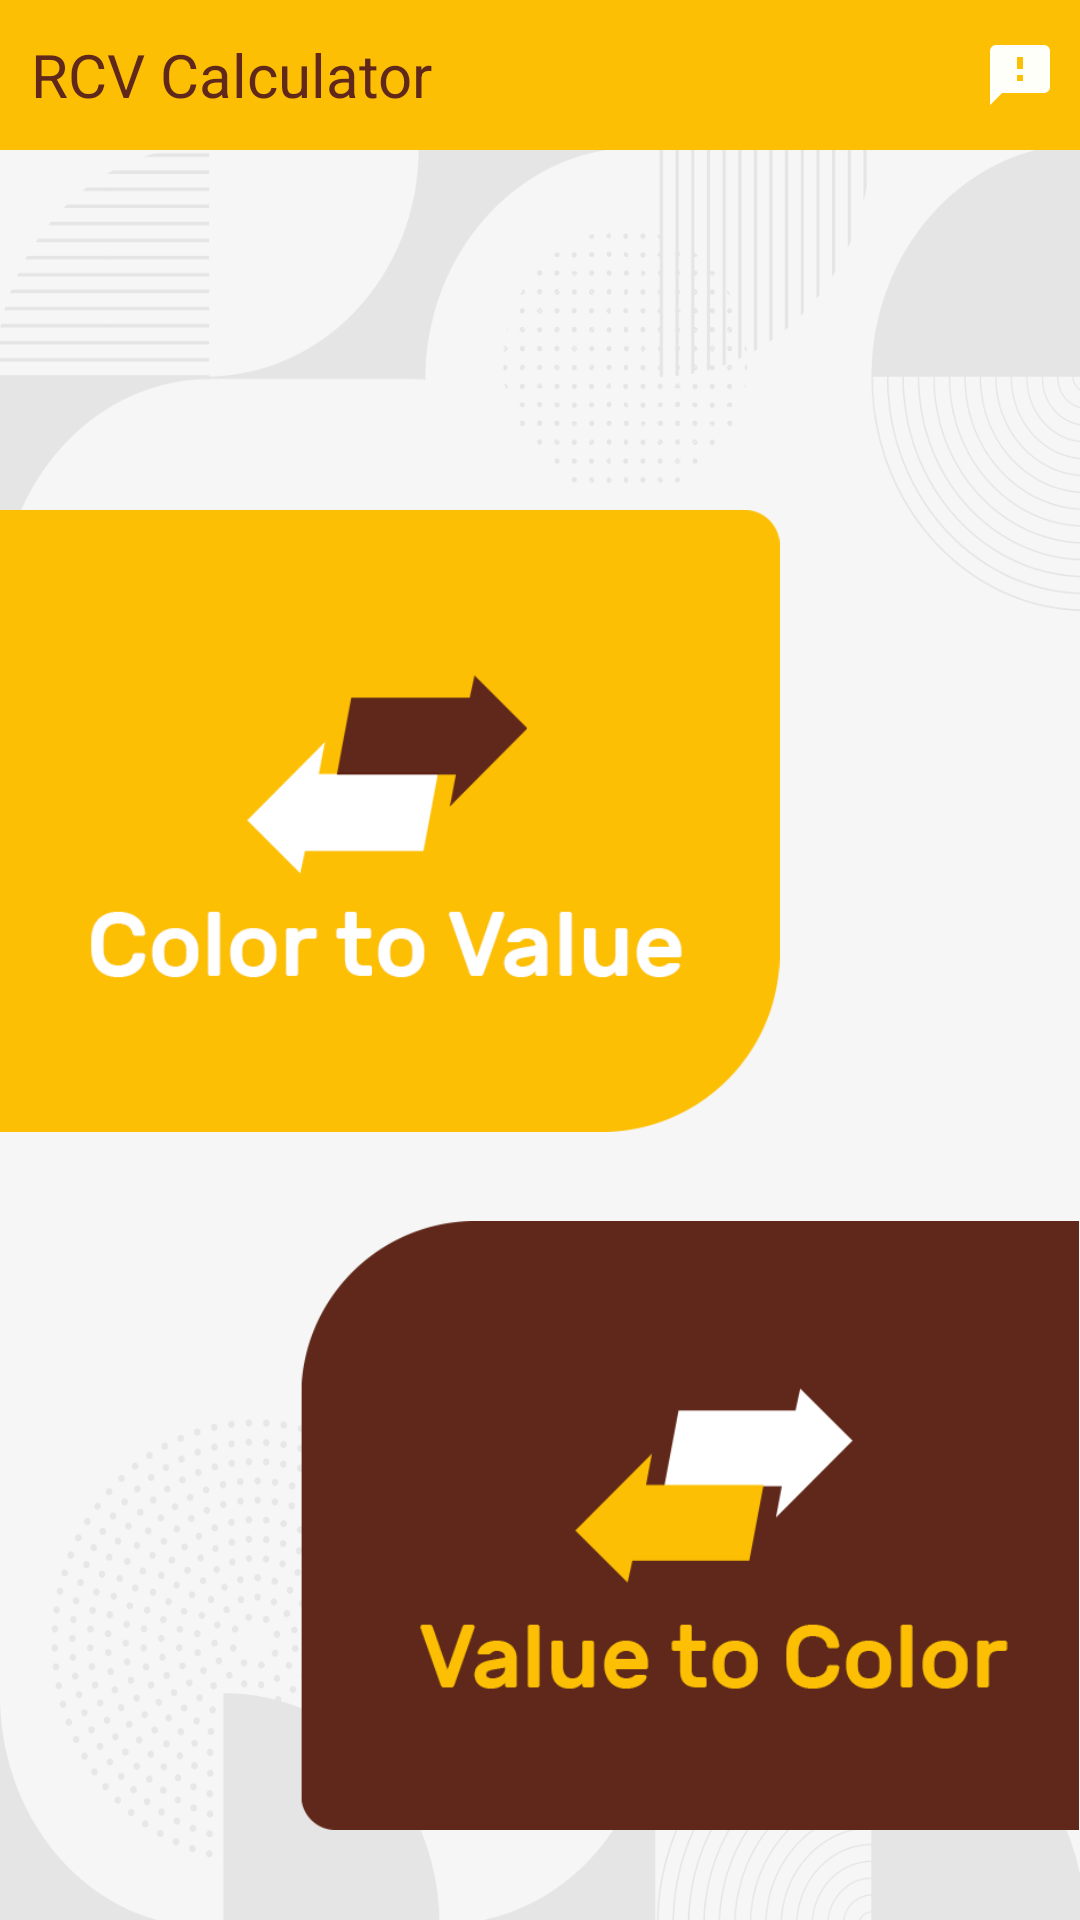

Screen size 1080 × 1920. Icon name, then its center in pixels as point (x, y):
feedback: point (1020, 75)
